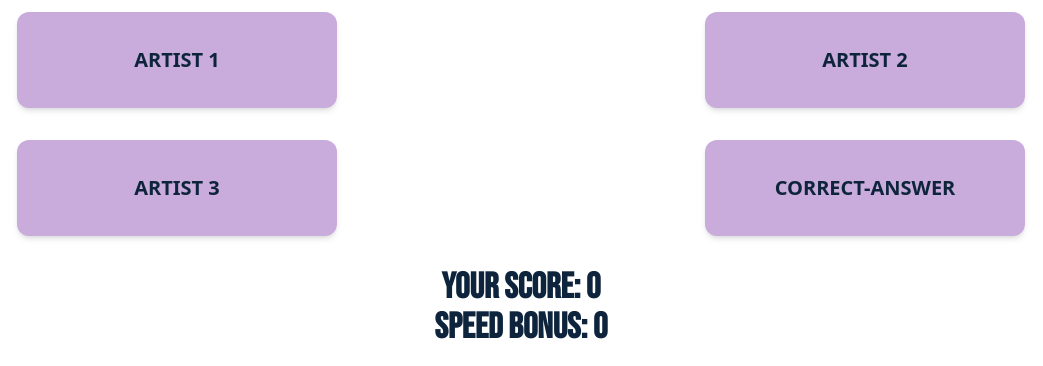
Test: Answer › Score is updated to 100 when correct answer is clicked, no bonus if more than 5 seconds
The width and height of the screenshot is (1043, 366).
Click the button "correct-answer" at (865, 188), box [705,140,1025,236]
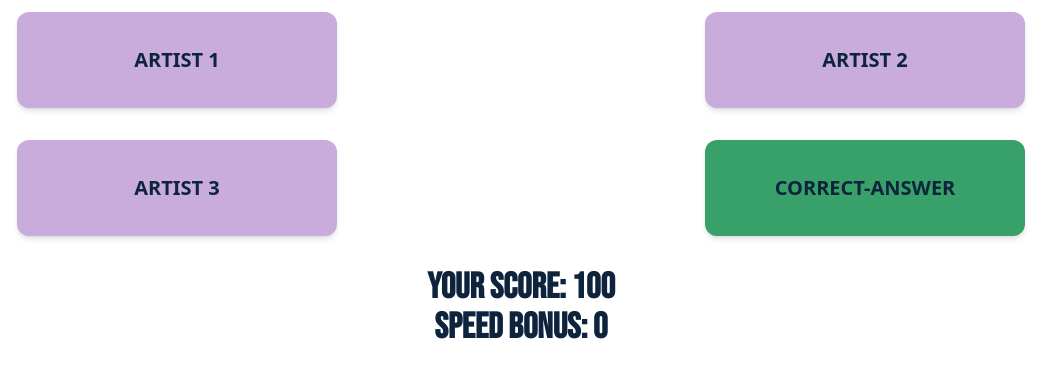
Expected: the text "Speed Bonus: 0" is shown, [434,306,607,349]
Now the text "Your Score: 100" is shown, box [427,266,615,309]
